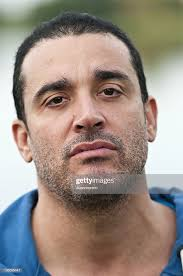middle_eastern_male: (23, 31, 150, 209)
